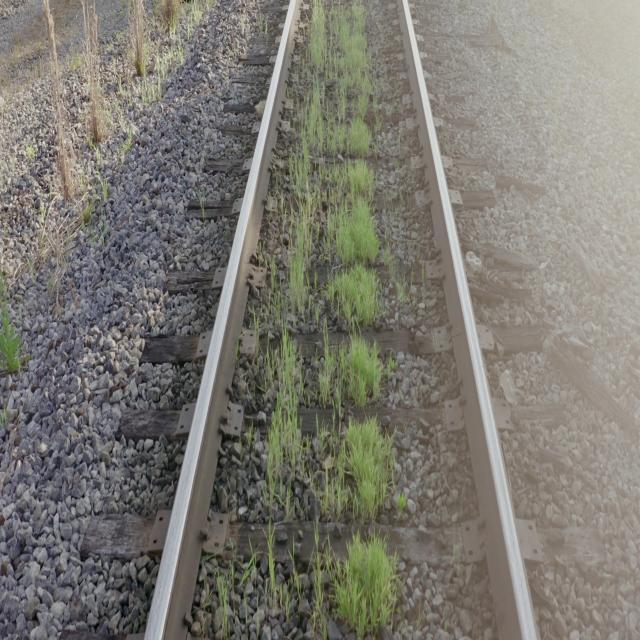Plant: (289, 2, 384, 409), (312, 533, 396, 638), (312, 420, 394, 520), (268, 331, 310, 516), (335, 533, 396, 638), (270, 564, 279, 604), (220, 573, 230, 604)
